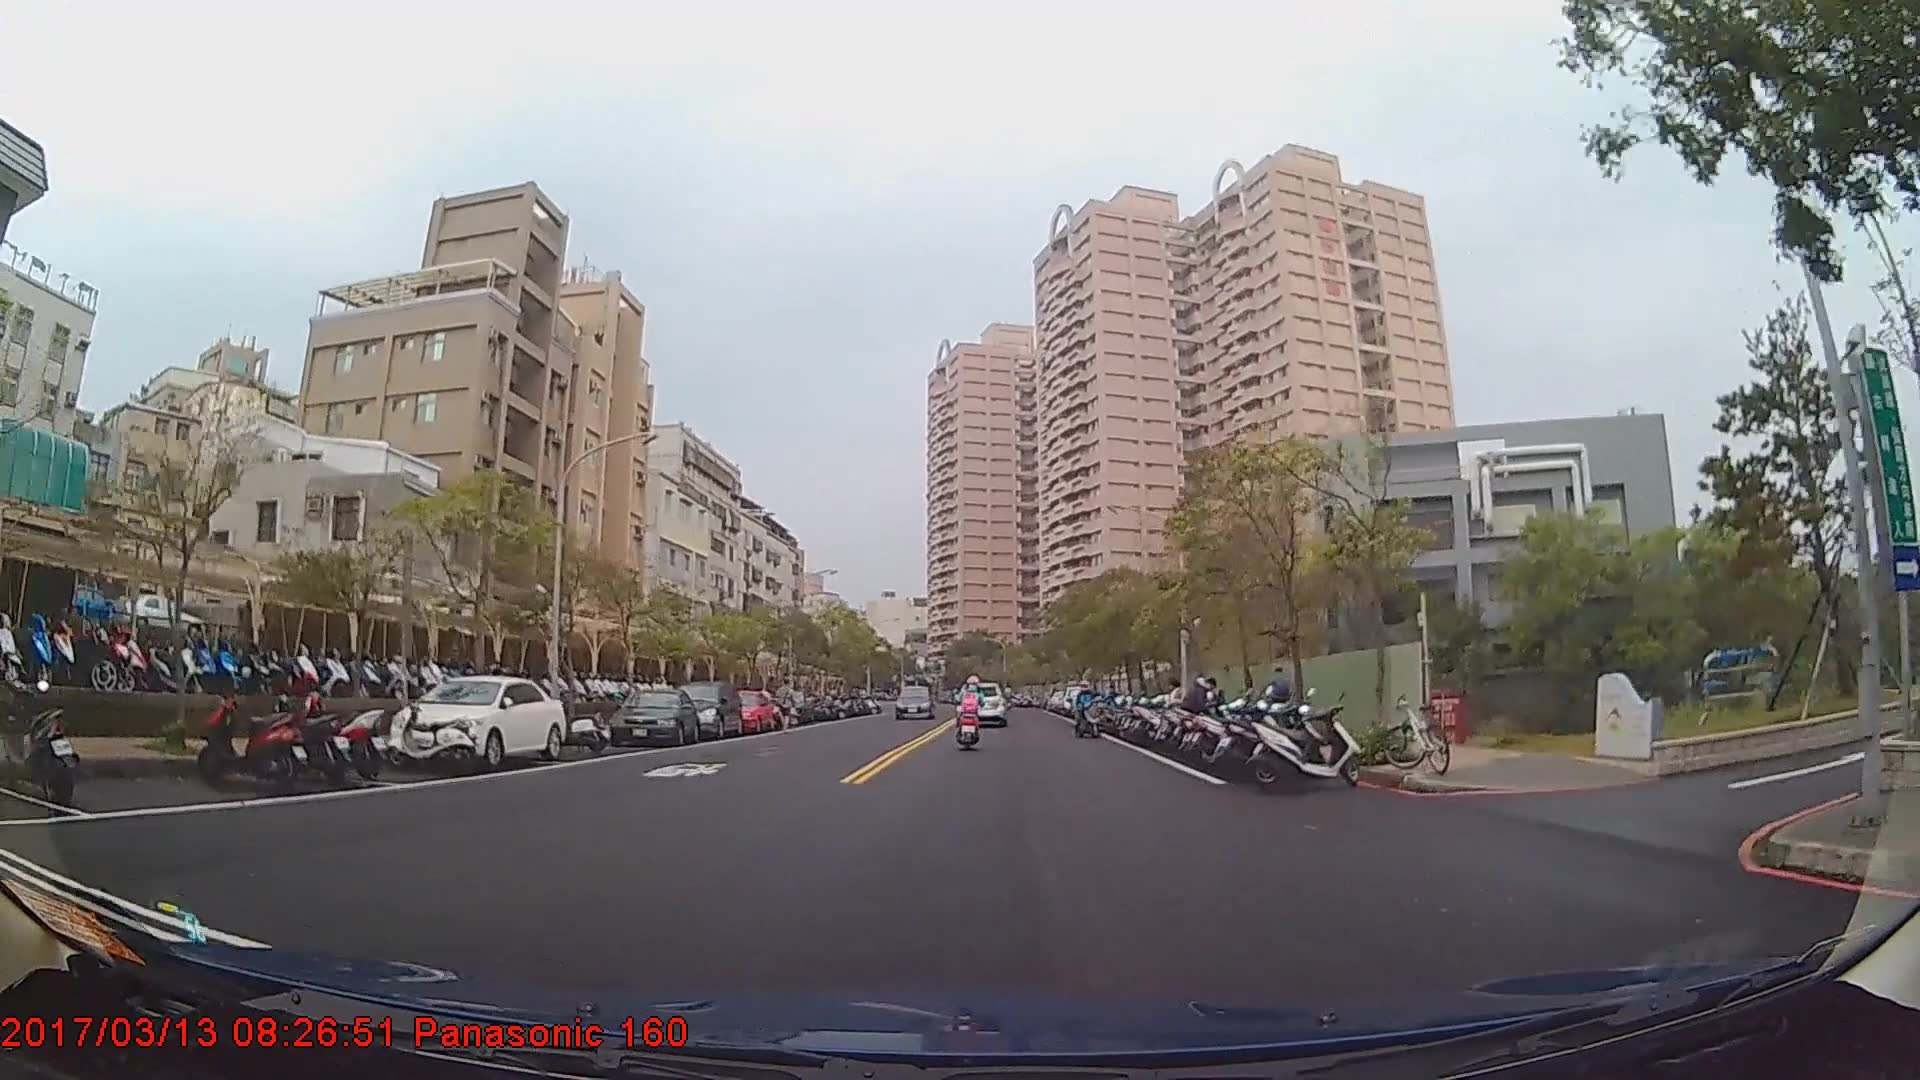pedestrian: (1182, 679, 1218, 756), (774, 680, 804, 739), (1266, 668, 1294, 732)
rider: (957, 680, 987, 753), (1074, 685, 1099, 744)
vehicle: (388, 676, 563, 772), (608, 687, 699, 747), (673, 679, 742, 737), (954, 682, 1007, 732), (719, 687, 777, 733), (895, 685, 933, 720)
